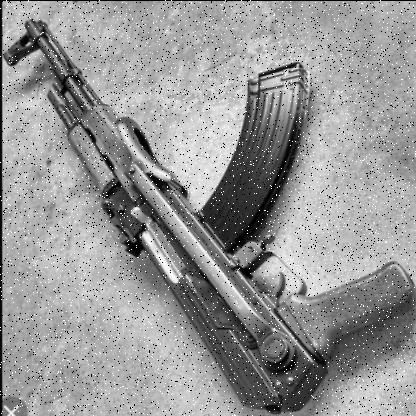rifle: (2, 16, 415, 416)
